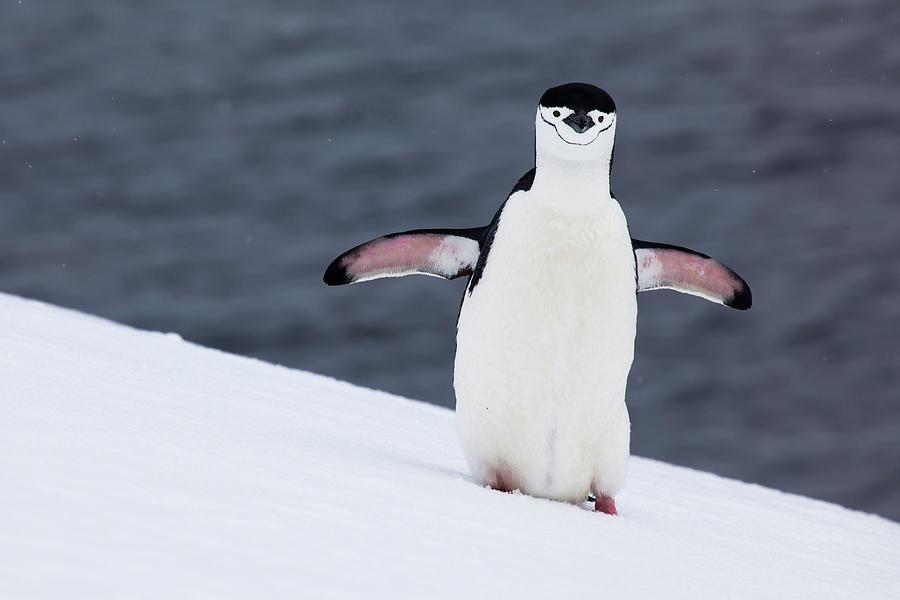Penguin: (323, 83, 751, 514)
